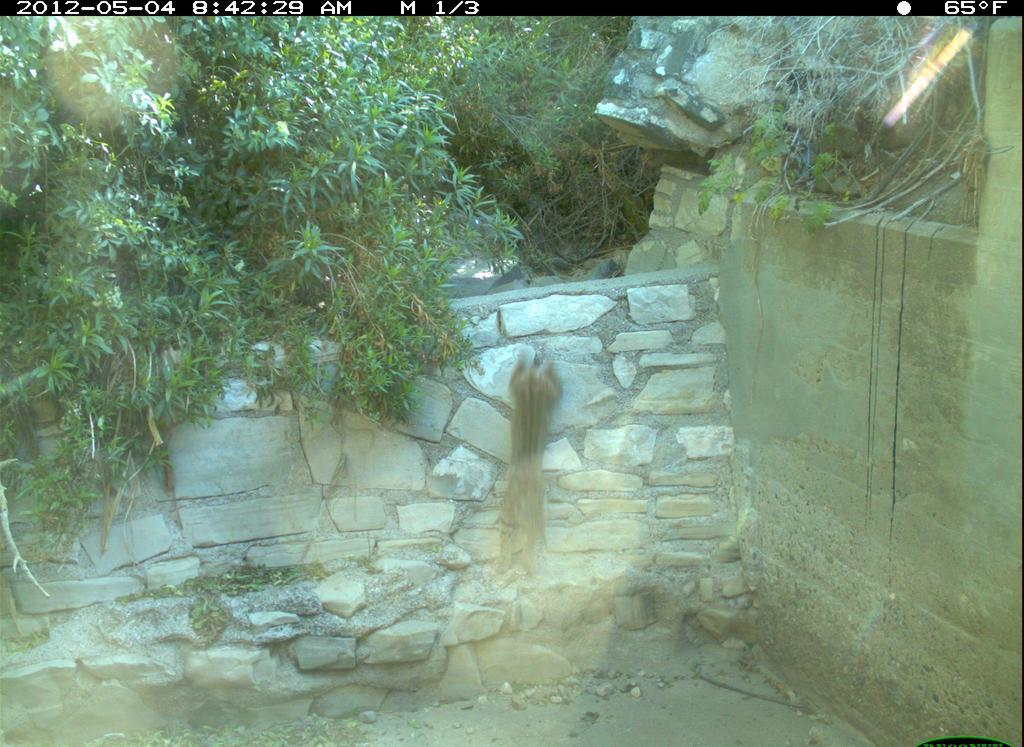bobcat: (482, 340, 569, 591)
